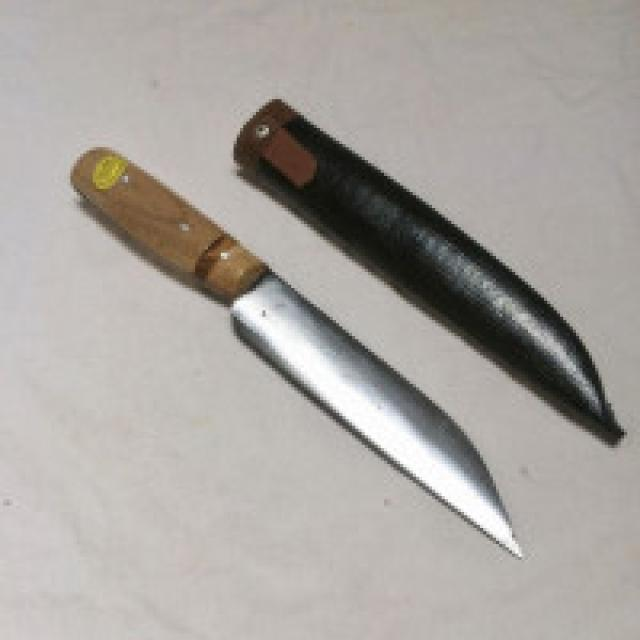Pisau: (49, 91, 635, 564)
